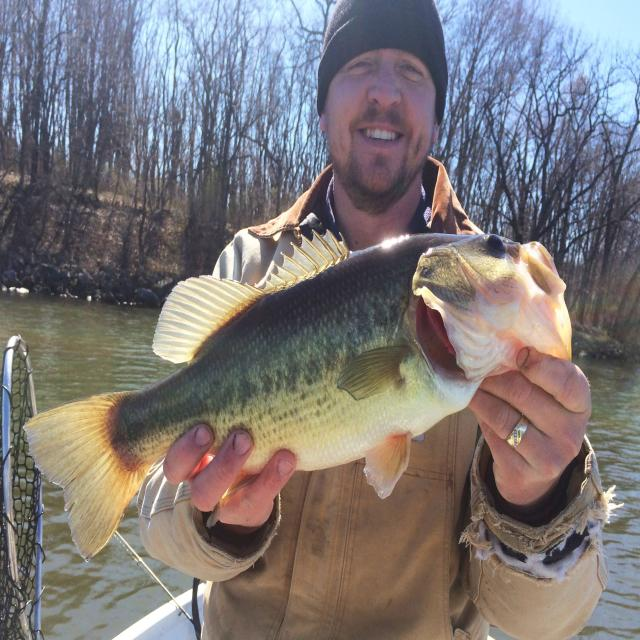Bass - Largemouth: (25, 232, 570, 559)
